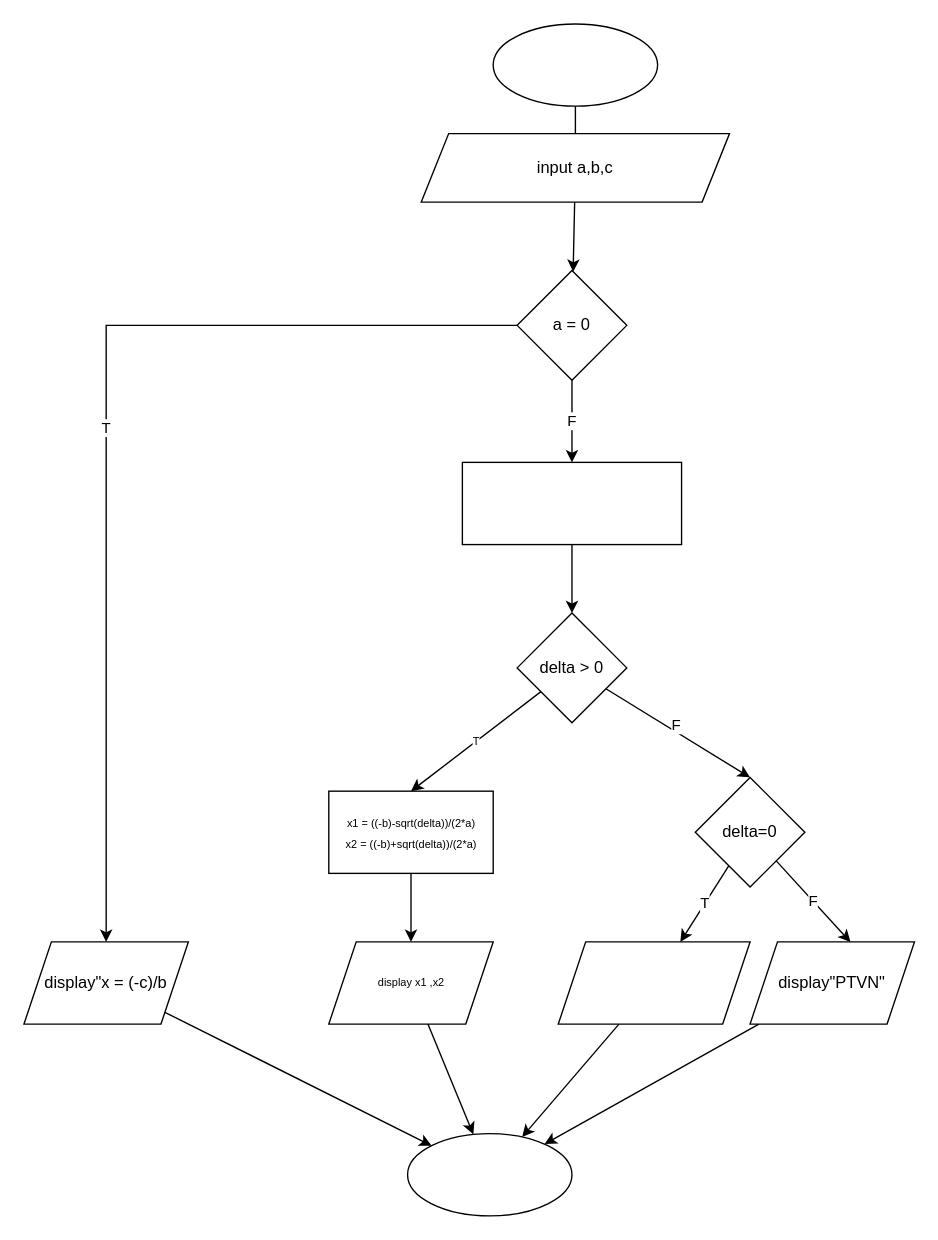
This 938x1240 diagram has some shape labels left out. The box of each missing label's shape, as (x1, y1, x2, y2) in pixels:
delta=sqrt(sqr(b)-4*a*c): (461, 461, 682, 545)
display"x=(-b)/(2*a): (557, 941, 750, 1024)
END: (406, 1132, 572, 1216)
Start: (492, 23, 658, 106)
